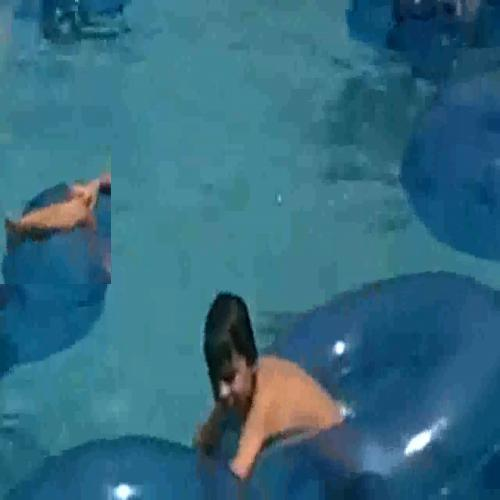swimming: (192, 290, 356, 490), (0, 144, 112, 285)
